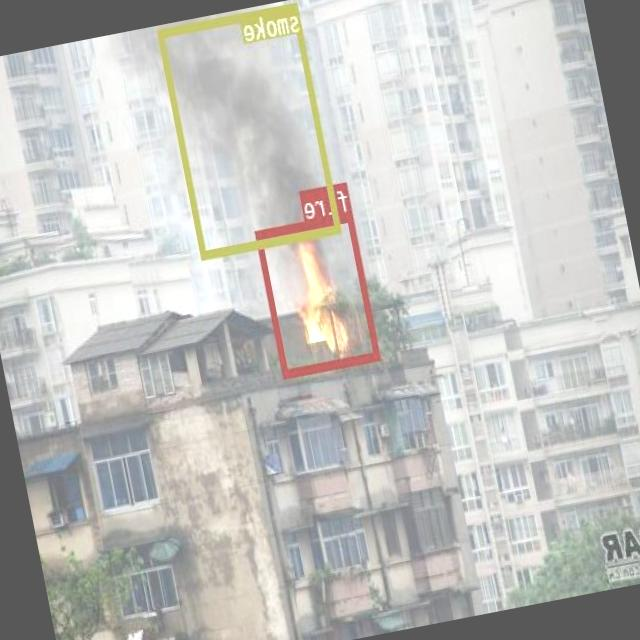fire: (256, 210, 382, 377)
smoke: (158, 1, 344, 258)
